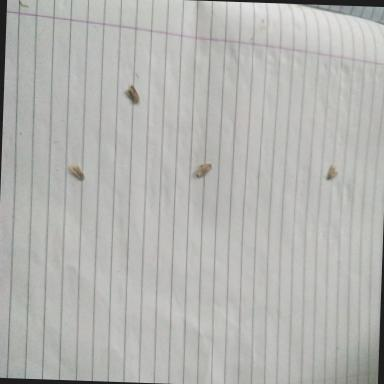pbw: (68, 162, 85, 182), (126, 84, 141, 106), (195, 163, 212, 179), (326, 164, 338, 182)
